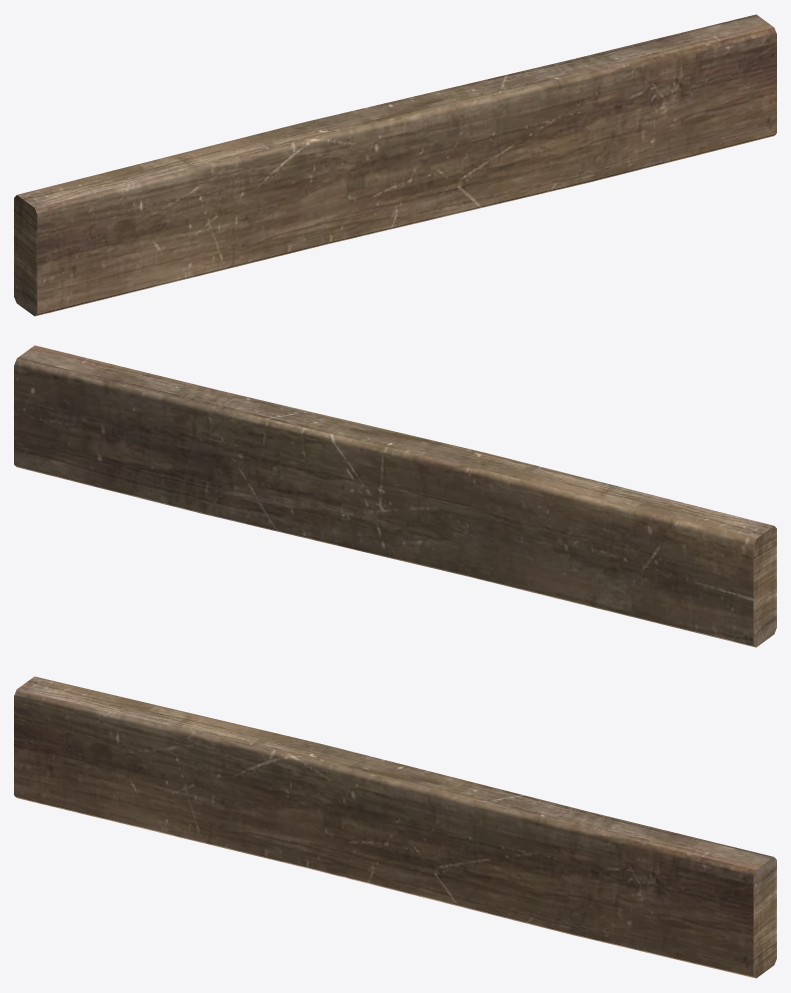
3 renders of one model, top to bottom at view 1: azimuth 30°, elevation 25°; view 2: azimuth 150°, elevation 25°; view 3: azimuth 330°, elevation 25°, orthographic.
Visible parts, largest first — view 1: SM_Human_Ruins_Beam_02_LOD0; view 2: SM_Human_Ruins_Beam_02_LOD0; view 3: SM_Human_Ruins_Beam_02_LOD0.
Part boxes in pixels (bbox=[...]): SM_Human_Ruins_Beam_02_LOD0: bbox=[14, 14, 776, 316]; SM_Human_Ruins_Beam_02_LOD0: bbox=[14, 345, 776, 647]; SM_Human_Ruins_Beam_02_LOD0: bbox=[14, 676, 776, 978].
Size of the model in its own units: 2 by 0.2907 by 0.1096.
1 material, 1 textured.
